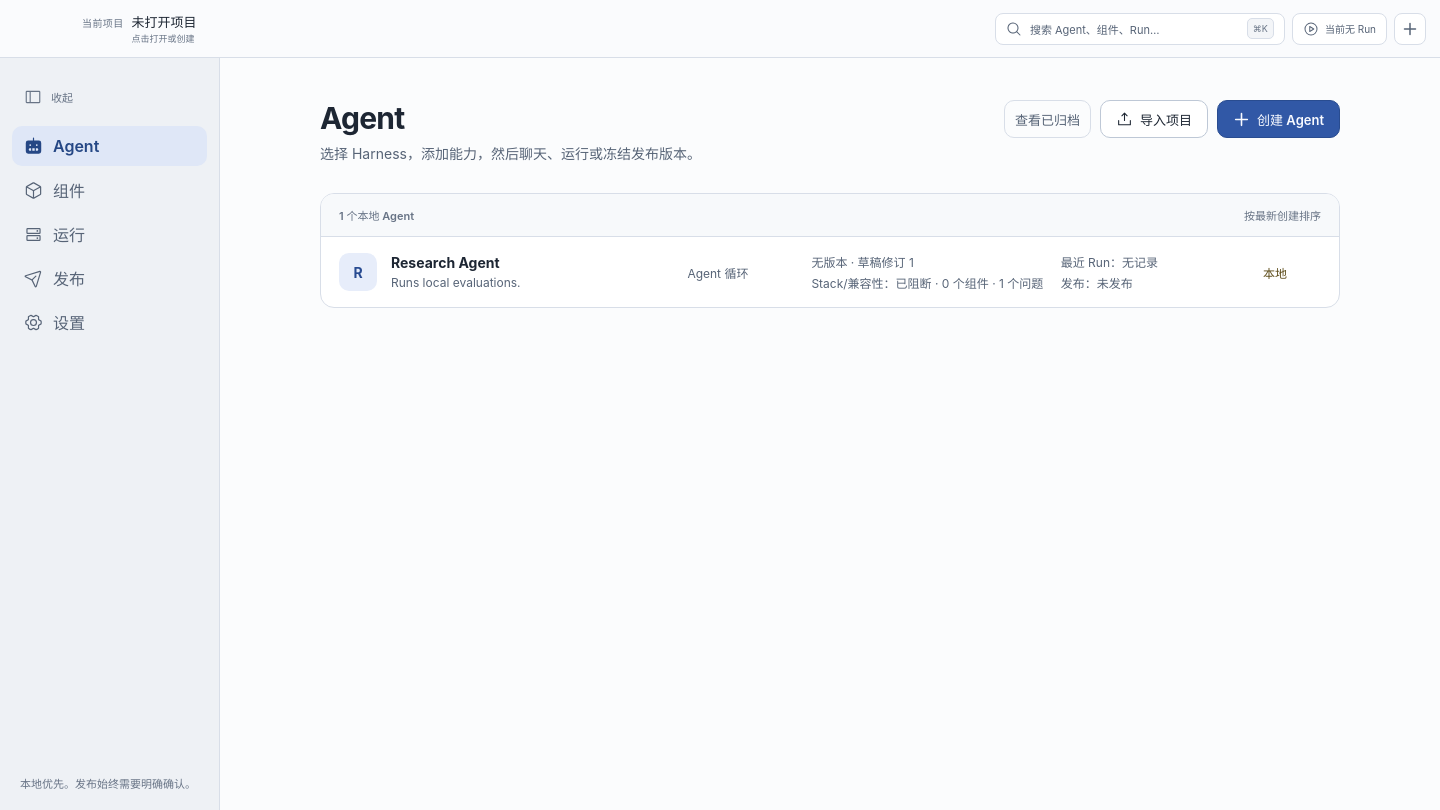
Test case: App › opens an Agent detail and creates an immutable version
Click the button "Research Agent".
click(830, 272)  # box [321,237,1339,307]
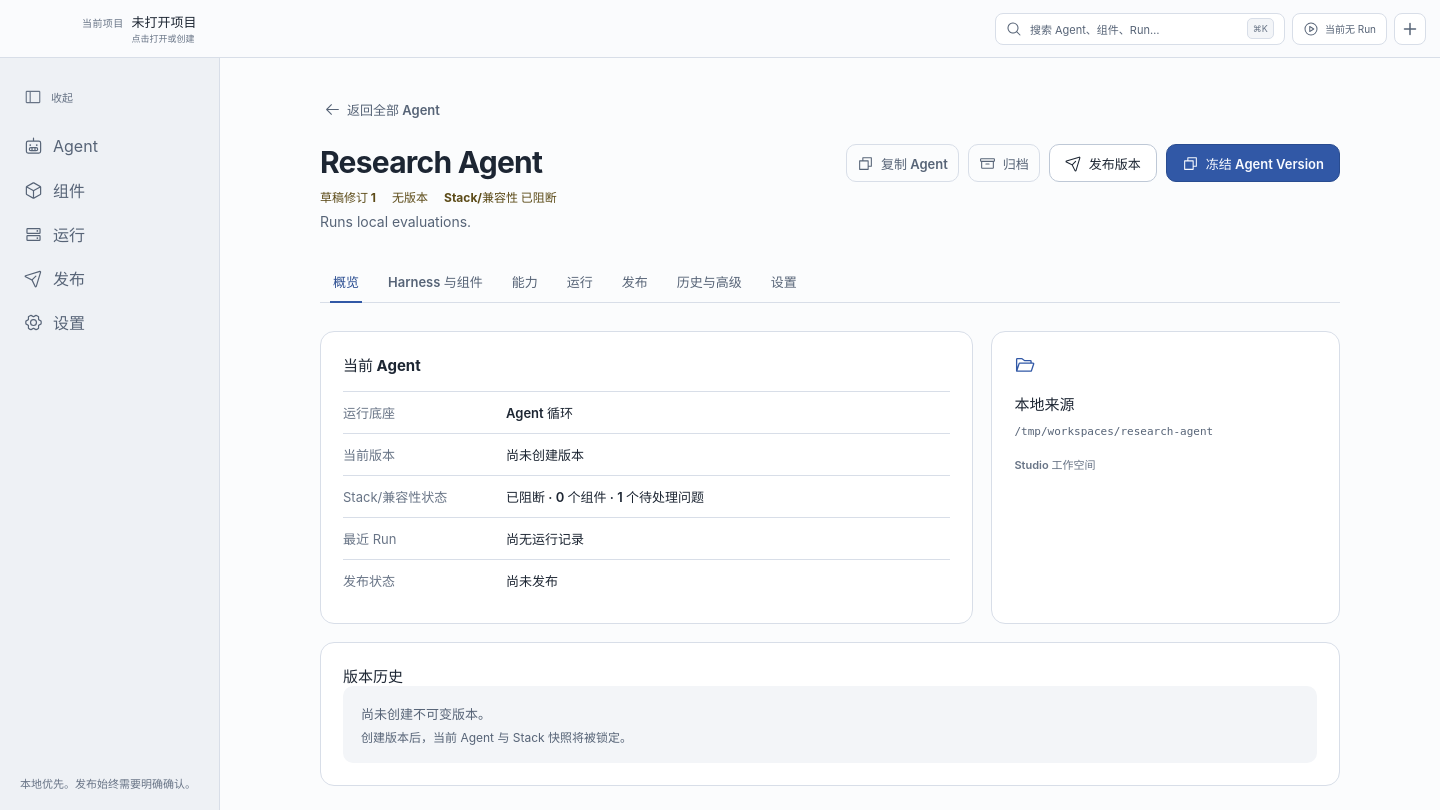
Check: the heading "Research Agent" is shown, box [320,144,542,180]
Click the button "冻结 Agent Version".
click(1253, 163)  # box [1166,144,1340,182]
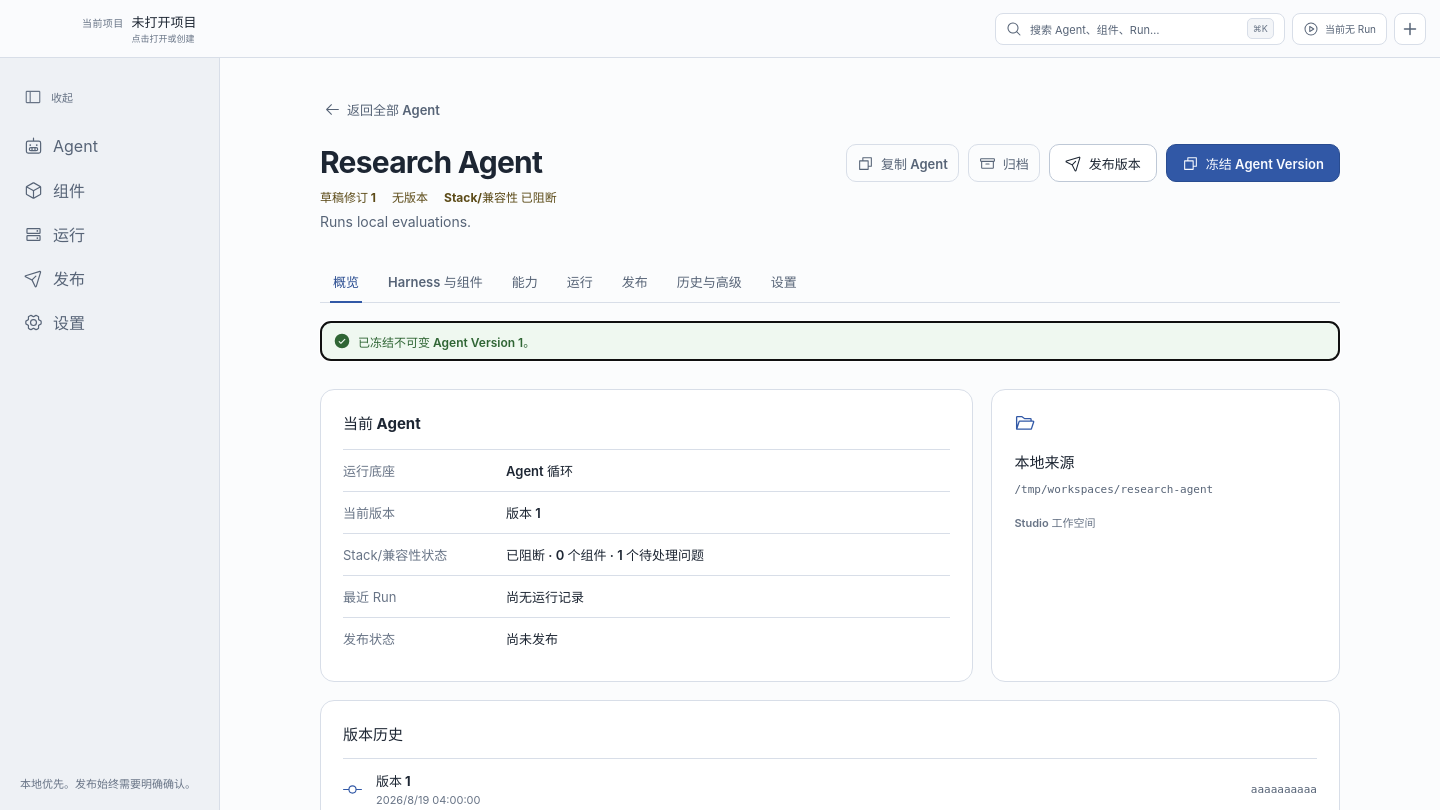
Check: the text "版本 1" is shown 2 times, box [506,505,541,521]; [376,773,411,789]
Check: the text "已冻结不可变 Agent Version 1。" is shown, box [320,321,1340,361]
